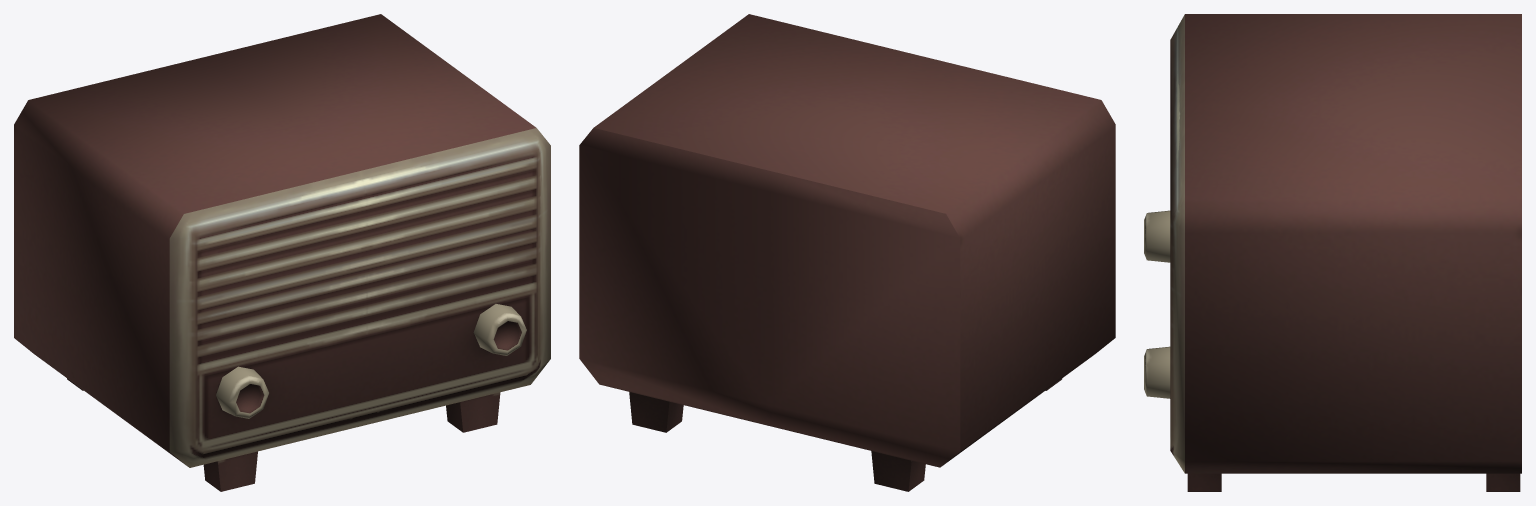
File: ShenFuXiuXiShi_01_shouyinji_01.FBX
3 renders of one model, left to right at view 1: azimuth 30°, elevation 25°; view 2: azimuth 150°, elevation 25°; view 3: azimuth 270°, elevation 25°, orthographic. The views are drawn at different scales.
Parts seen in each view (by area): view 1: ShenFuXiuXiShi_01_shouyinji_01; view 2: ShenFuXiuXiShi_01_shouyinji_01; view 3: ShenFuXiuXiShi_01_shouyinji_01.
Boxes of the visible parts, x1,y1,x2,y2 form: ShenFuXiuXiShi_01_shouyinji_01: (14, 14, 550, 491); ShenFuXiuXiShi_01_shouyinji_01: (579, 14, 1115, 491); ShenFuXiuXiShi_01_shouyinji_01: (1144, 14, 1521, 491).
Bounding box in the file's own units: 226 × 163 × 179.
